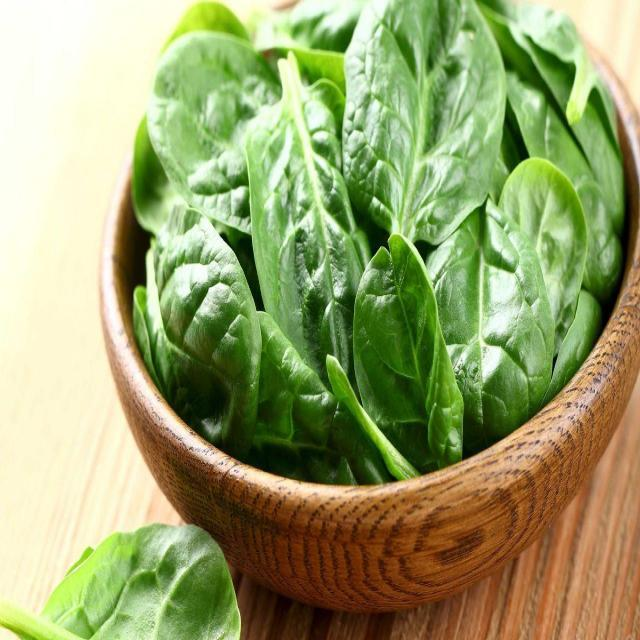Spinach: (116, 0, 639, 500)
